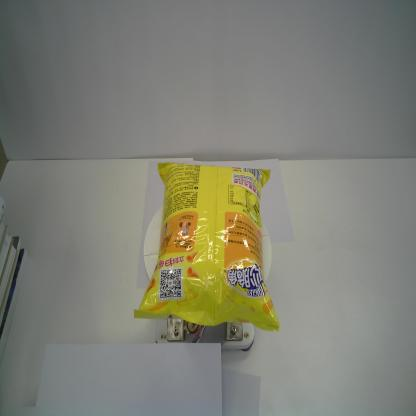Puffed Food: (132, 161, 284, 333)
